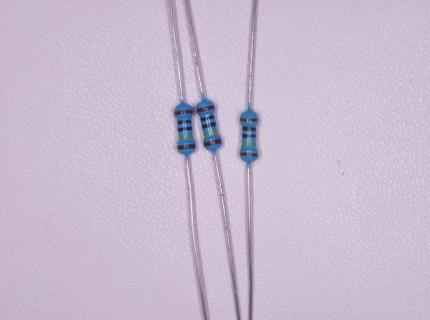Black band: (201, 121, 217, 129), (200, 115, 215, 122), (178, 125, 193, 132), (178, 119, 192, 125), (242, 127, 256, 132), (242, 134, 256, 139)
Brown band: (203, 138, 223, 148), (196, 104, 215, 114), (173, 108, 193, 116), (177, 144, 197, 151), (240, 151, 258, 158), (239, 118, 258, 123)
Yellow band: (203, 129, 218, 137), (178, 135, 193, 140), (242, 142, 256, 147)
